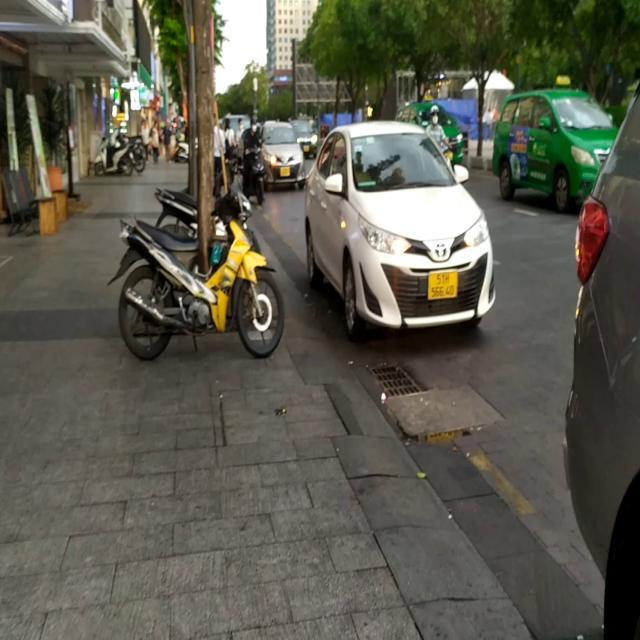bien_vang: (426, 265, 460, 305)
